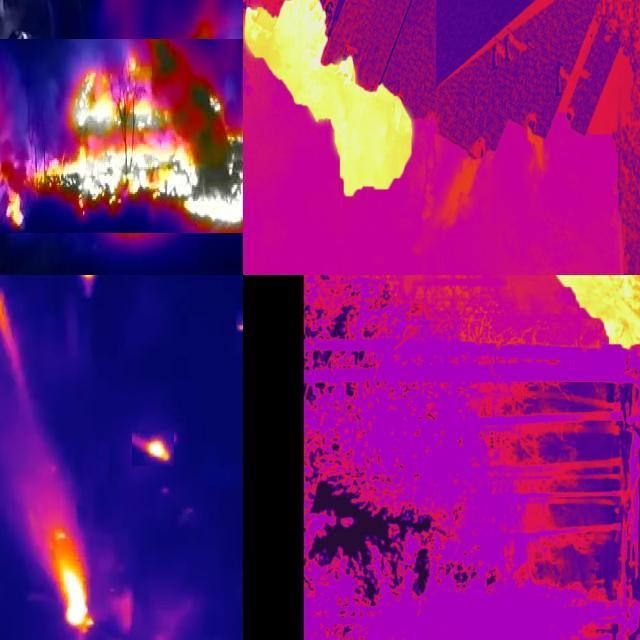fire: (1, 39, 244, 233), (244, 1, 425, 247), (432, 276, 640, 394), (52, 522, 98, 636), (132, 430, 174, 466), (75, 276, 97, 290)
